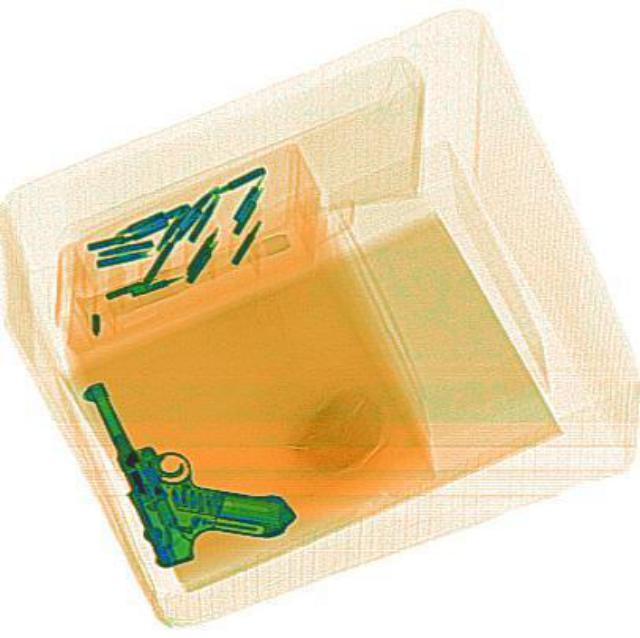Gun: (79, 334, 297, 573)
